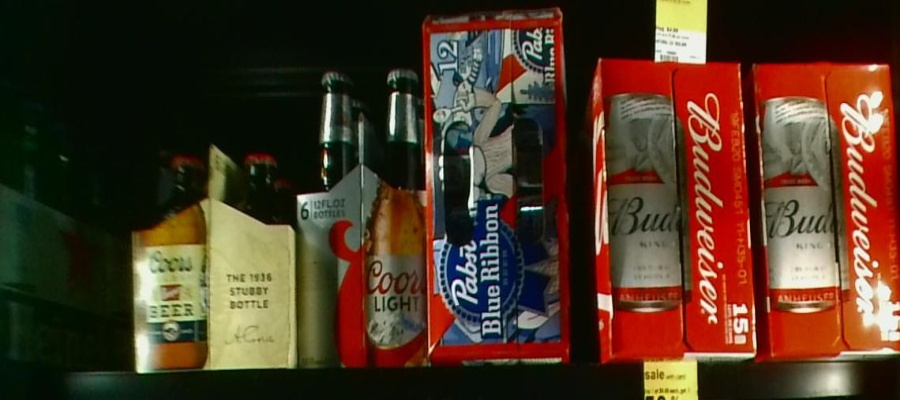bottle: (580, 58, 756, 360), (420, 12, 571, 359), (750, 56, 900, 361), (131, 138, 298, 371), (297, 69, 426, 368)
